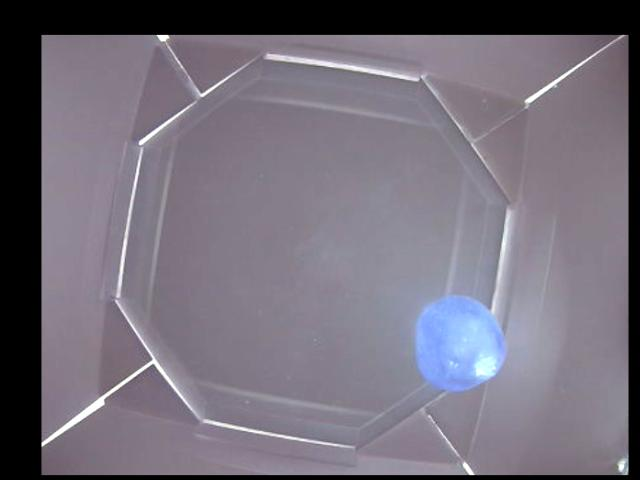Potato: (416, 294, 513, 393)
